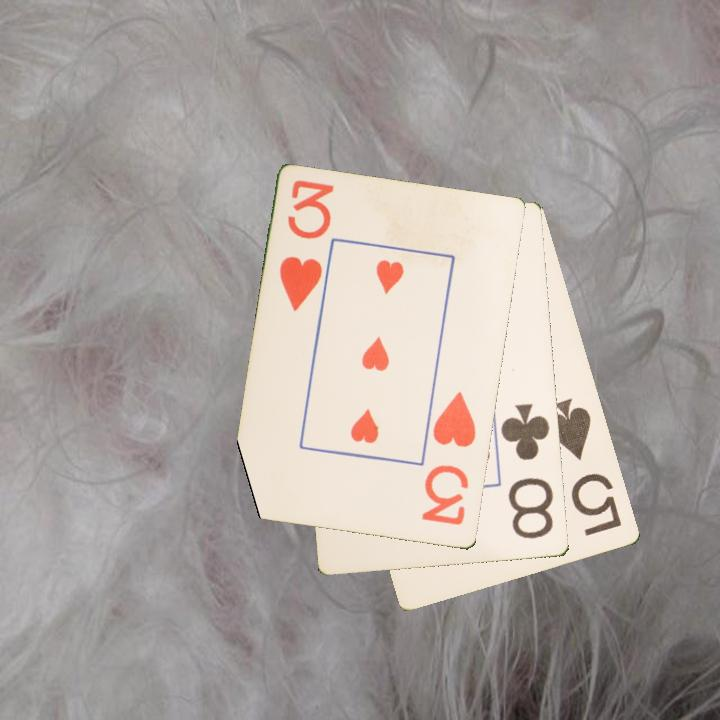3h: (276, 177, 338, 315), (418, 389, 479, 529)
5s: (544, 394, 625, 540)
8c: (498, 400, 557, 542)
